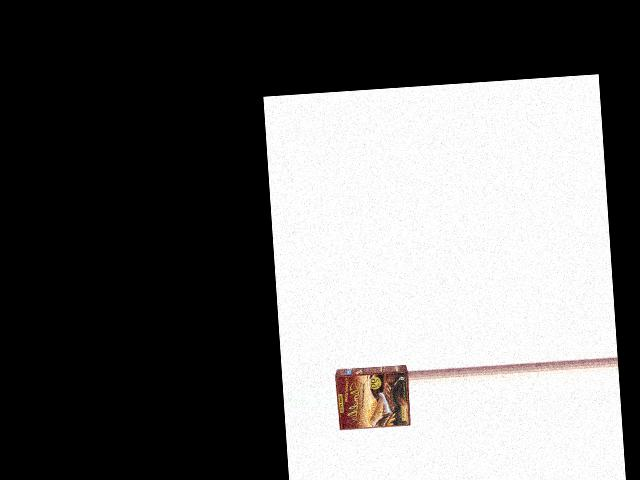chocolate: (333, 360, 412, 437)
